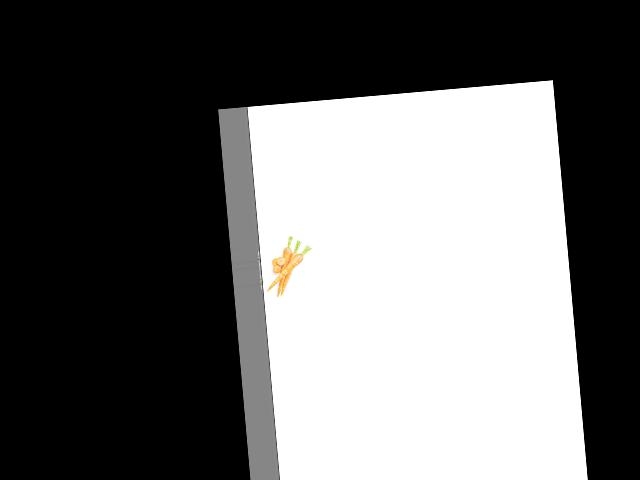carrot: (274, 242, 301, 298)
